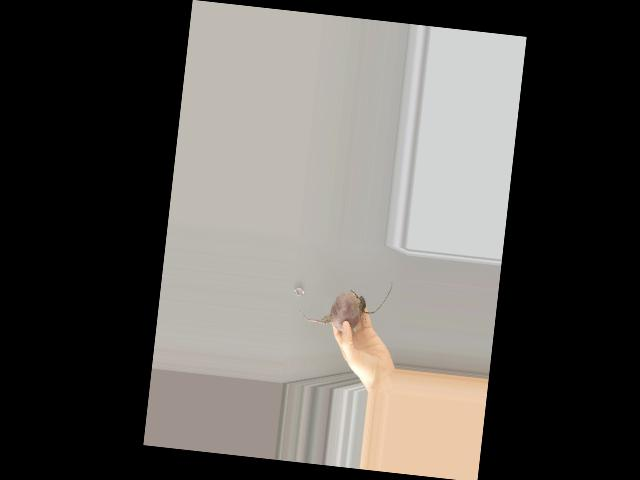beet: (296, 270, 393, 336)
